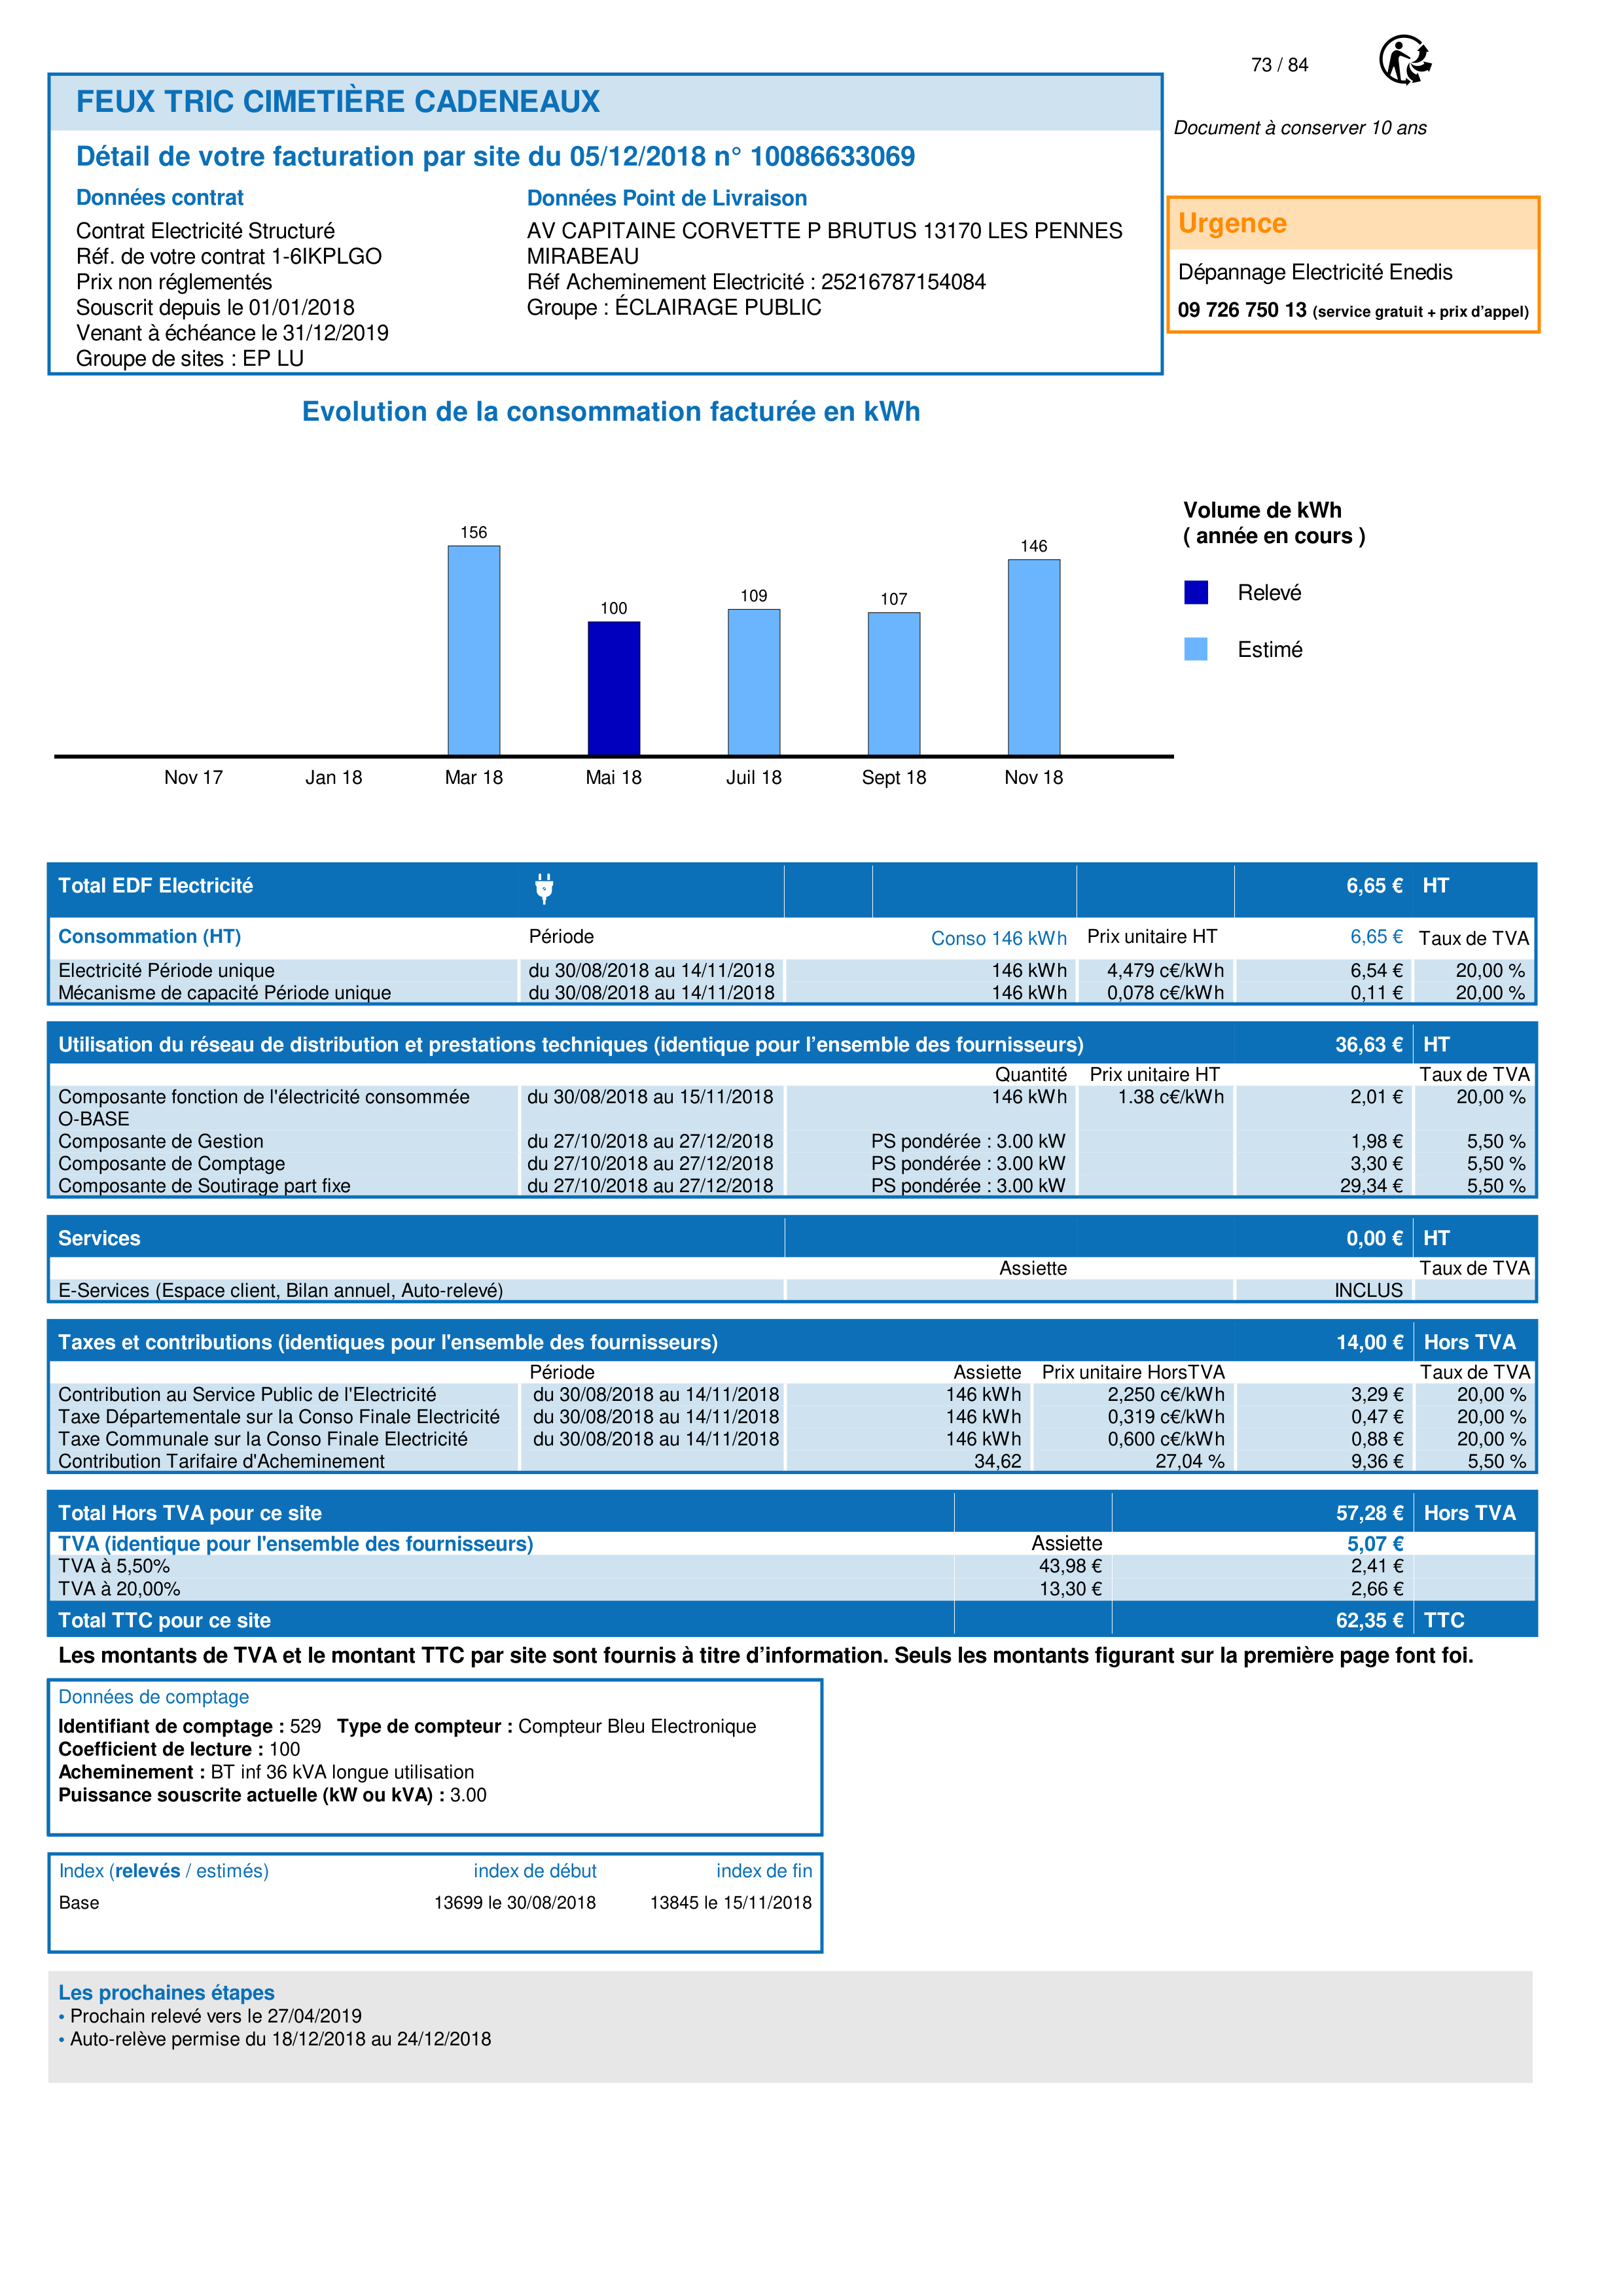area: (49, 1852, 823, 1953)
type_indicator: (49, 1853, 279, 1886)
